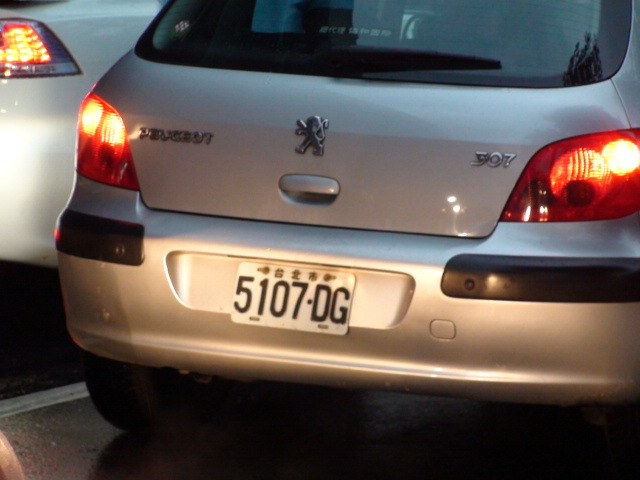plate: (226, 256, 359, 341)
